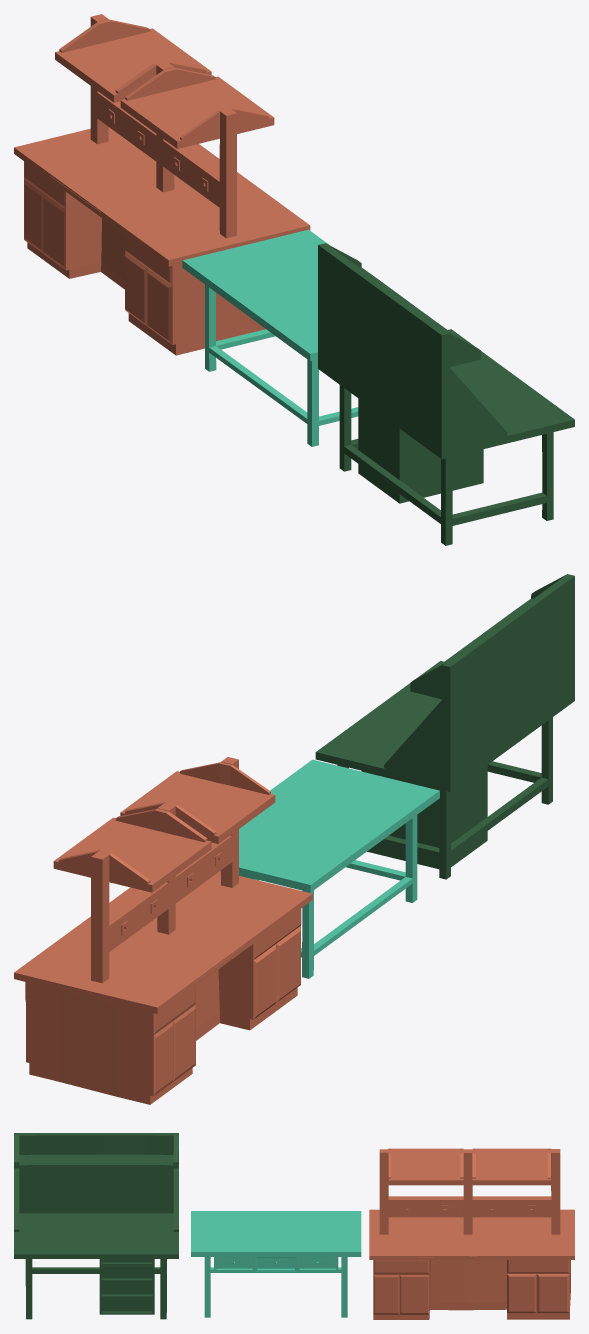
Rendered from Tables.fbx.
3 views of the same model, one above another, from view 1: azimuth 30°, elevation 25°; view 2: azimuth 150°, elevation 25°; view 3: azimuth 270°, elevation 25° (orthographic). The views are drawn at different scales.
Parts seen in each view (by area): view 1: desk03, desk02, Desk01; view 2: desk03, desk02, Desk01; view 3: desk03, desk02, Desk01.
Boxes of the visible parts, x1,y1,x2,y2 form: desk03: (14,14,310,355); desk02: (318,243,574,545); Desk01: (182,229,358,446); desk03: (14,757,312,1104); desk02: (315,574,574,879); Desk01: (220,759,439,978); desk03: (369,1148,574,1319); desk02: (14,1133,178,1319); Desk01: (191,1211,361,1317).
Size of the model in its own units: 582 by 877 by 2969.
